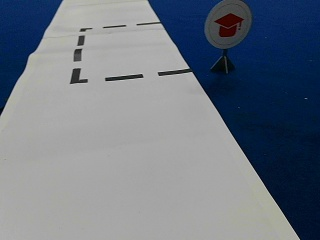school: (205, 1, 251, 48)
